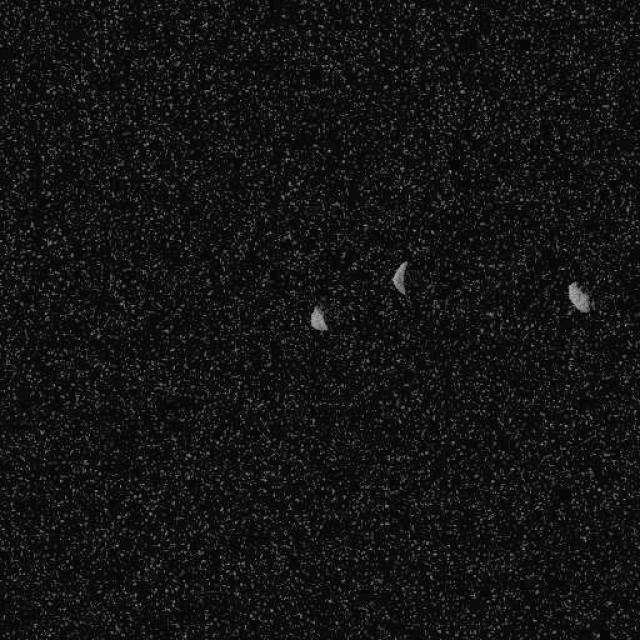D2: (566, 280, 592, 314), (390, 259, 409, 295), (308, 304, 328, 331)
